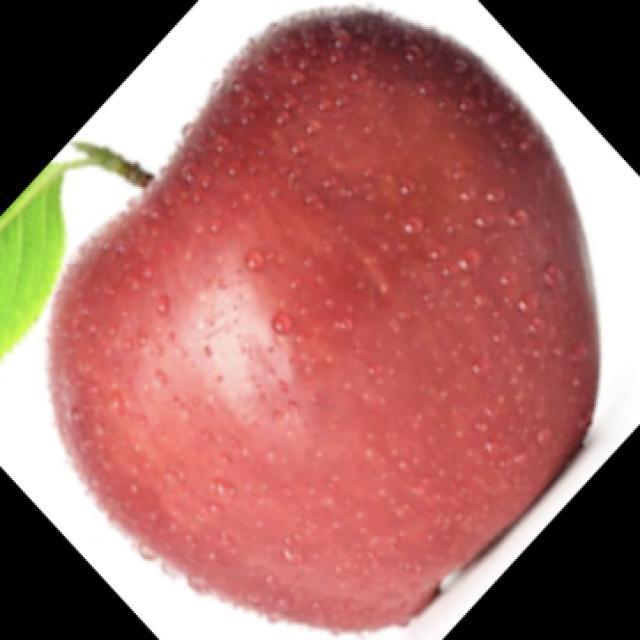Fresh Apple: (50, 21, 640, 640)
